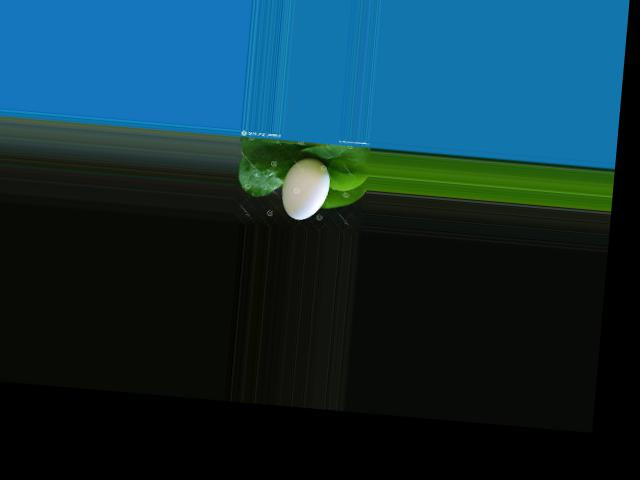egg: (280, 155, 332, 221)
